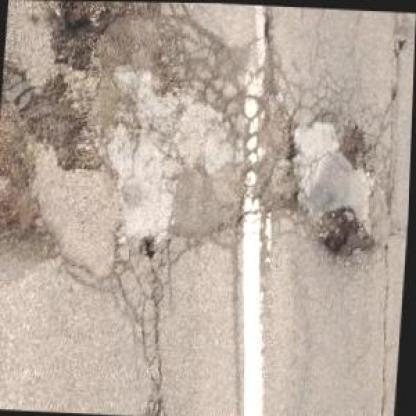pothole: (15, 84, 90, 174), (47, 0, 117, 78), (316, 204, 374, 256), (334, 123, 370, 168), (138, 235, 162, 260)
